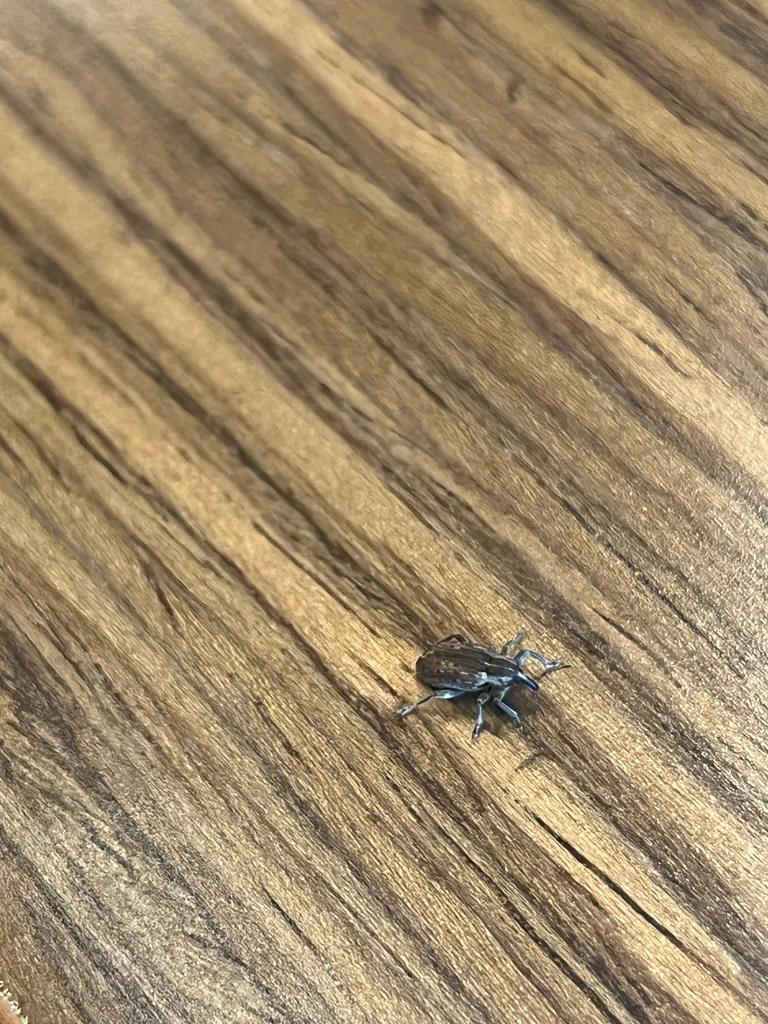weevils: (364, 589, 590, 777)
